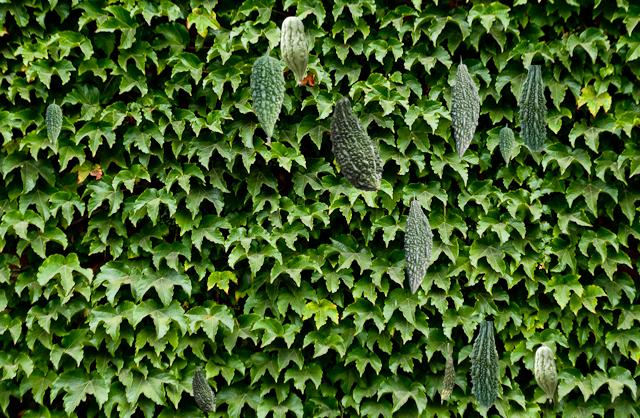ampalaya: (330, 96, 382, 190), (249, 46, 284, 144), (450, 55, 479, 157), (403, 191, 432, 293), (517, 65, 546, 150), (469, 321, 498, 406), (280, 16, 307, 85), (534, 346, 556, 402), (192, 368, 215, 411), (441, 343, 454, 403), (45, 99, 61, 147), (498, 123, 513, 166)
